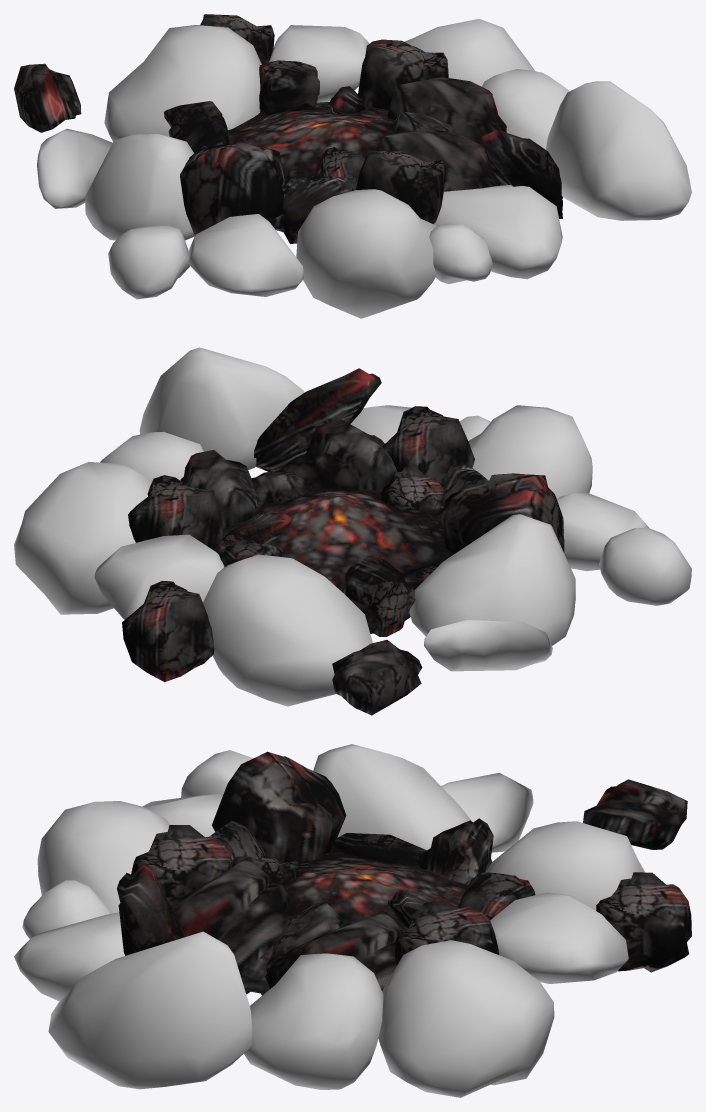
File: camp_bonfire_02.fbx
3 renders of one model, top to bottom at view 1: azimuth 30°, elevation 25°; view 2: azimuth 150°, elevation 25°; view 3: azimuth 270°, elevation 25°, orthographic. The views are drawn at different scales.
Visible parts, largest first — view 1: camp_bonfire_02; view 2: camp_bonfire_02; view 3: camp_bonfire_02.
Boxes of the visible parts, x1,y1,x2,y2 form: camp_bonfire_02: (14,14,691,318); camp_bonfire_02: (14,347,691,715); camp_bonfire_02: (14,744,691,1097).
Bounding box in the file's own units: 102 × 27.25 × 99.59.
